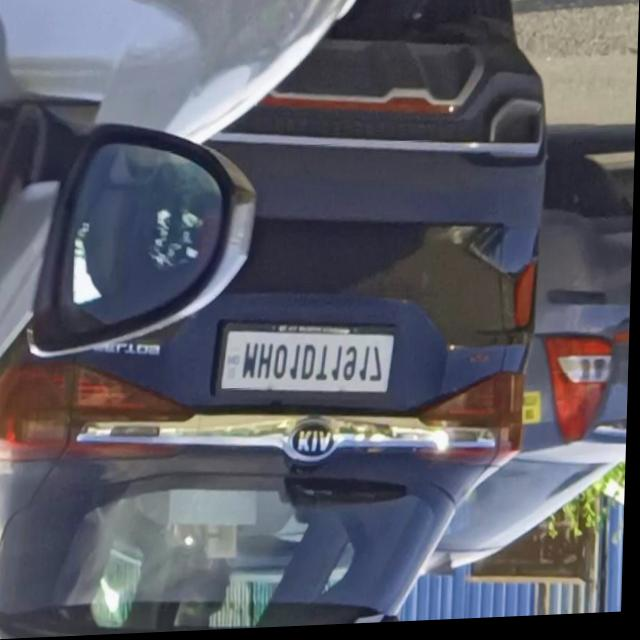0: (276, 346, 290, 381)
1: (333, 350, 348, 384), (291, 346, 304, 383), (361, 350, 373, 384)
7: (372, 350, 386, 385)
9: (345, 348, 361, 384)
d: (303, 348, 319, 383)
h: (260, 345, 276, 382)
m: (243, 344, 260, 382)
t: (318, 348, 333, 384)
